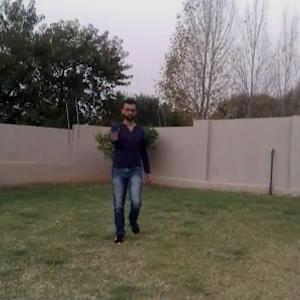takeoff-hand: (99, 121, 123, 145)
